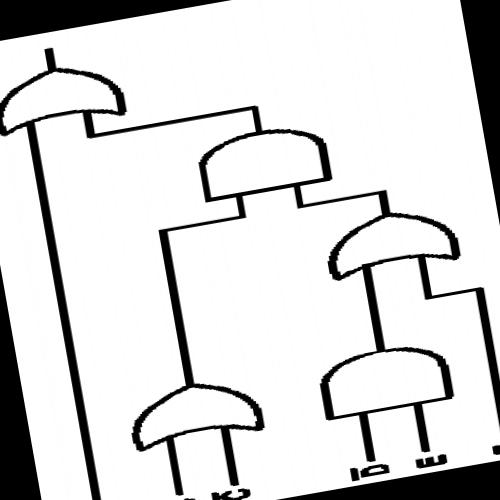and: (304, 333, 462, 427), (186, 116, 336, 207)
or: (114, 366, 271, 458), (312, 196, 464, 286), (0, 52, 135, 142)
